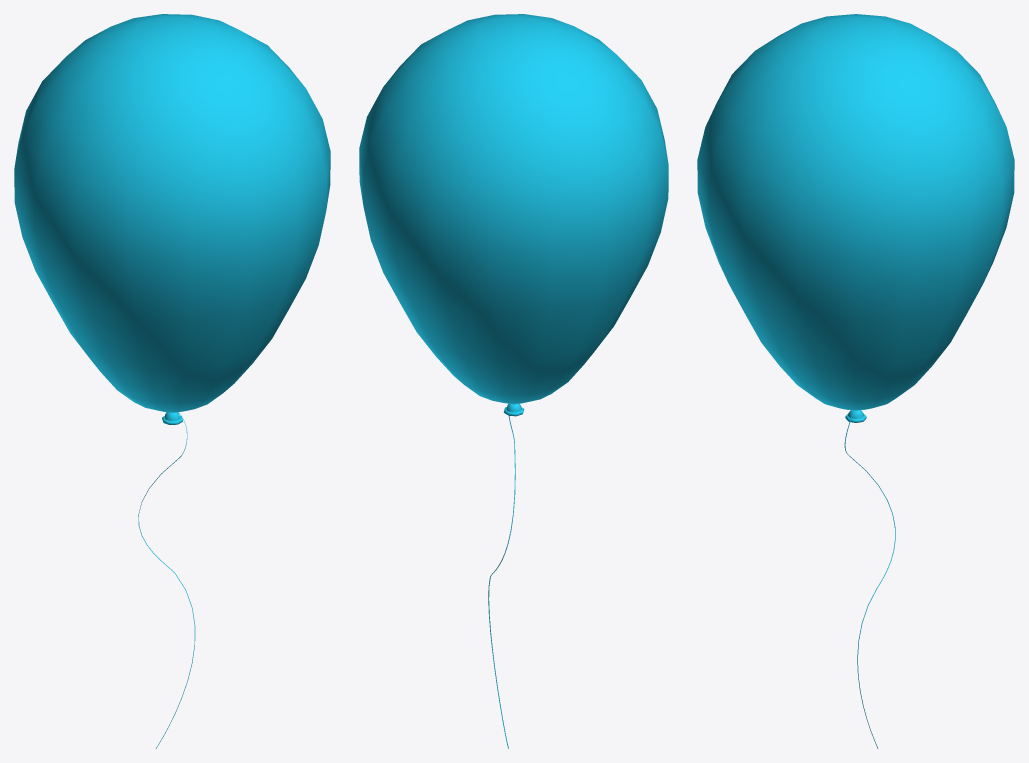
Rendered from ballon_blue.glb.
3 renders of one model, left to right at view 1: azimuth 30°, elevation 25°; view 2: azimuth 150°, elevation 25°; view 3: azimuth 270°, elevation 25°, orthographic. The views are drawn at different scales.
Parts seen in each view (by area): view 1: Balloon_blue; view 2: Balloon_blue; view 3: Balloon_blue.
Boxes of the visible parts, x1,y1,x2,y2 form: Balloon_blue: [14, 14, 330, 748]; Balloon_blue: [359, 14, 668, 748]; Balloon_blue: [697, 14, 1014, 748].
Size of what is drawn, in the model's own units: 0.2648 by 0.664 by 0.2648.
